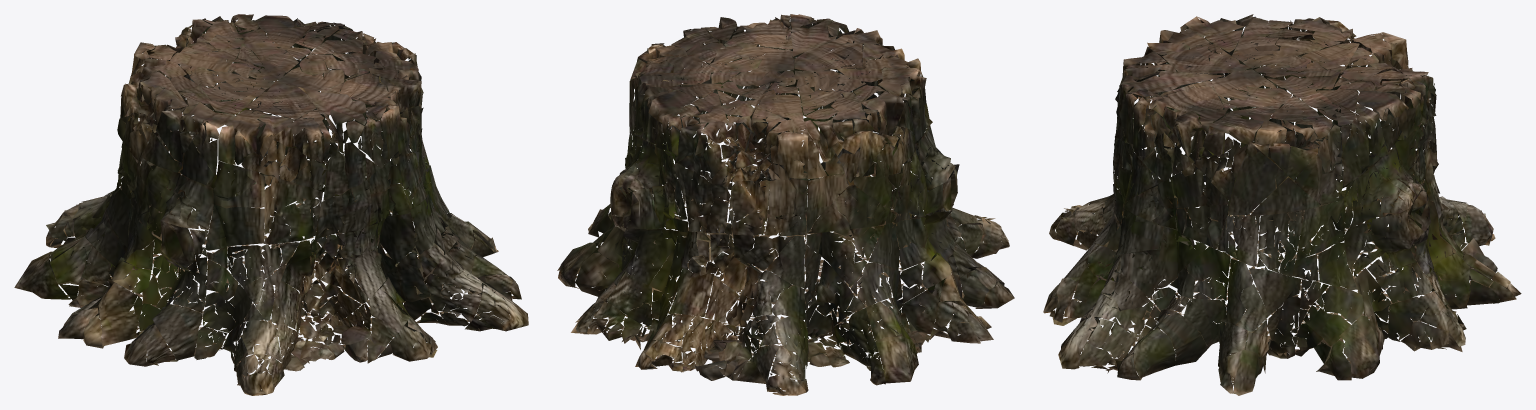
Rendered from stump_old_01.glb.
3 renders of one model, left to right at view 1: azimuth 30°, elevation 25°; view 2: azimuth 150°, elevation 25°; view 3: azimuth 270°, elevation 25°, orthographic. The views are drawn at different scales.
Parts seen in each view (by area): view 1: Object_4; view 2: Object_4; view 3: Object_4.
Part boxes in pixels (box(x1,y1,x2,y2)): Object_4: box(14, 14, 528, 395); Object_4: box(557, 14, 1014, 395); Object_4: box(1043, 14, 1521, 395).
Bounding box in the file's own units: 1.75 × 0.9 × 1.68.
1 material, 1 textured.
